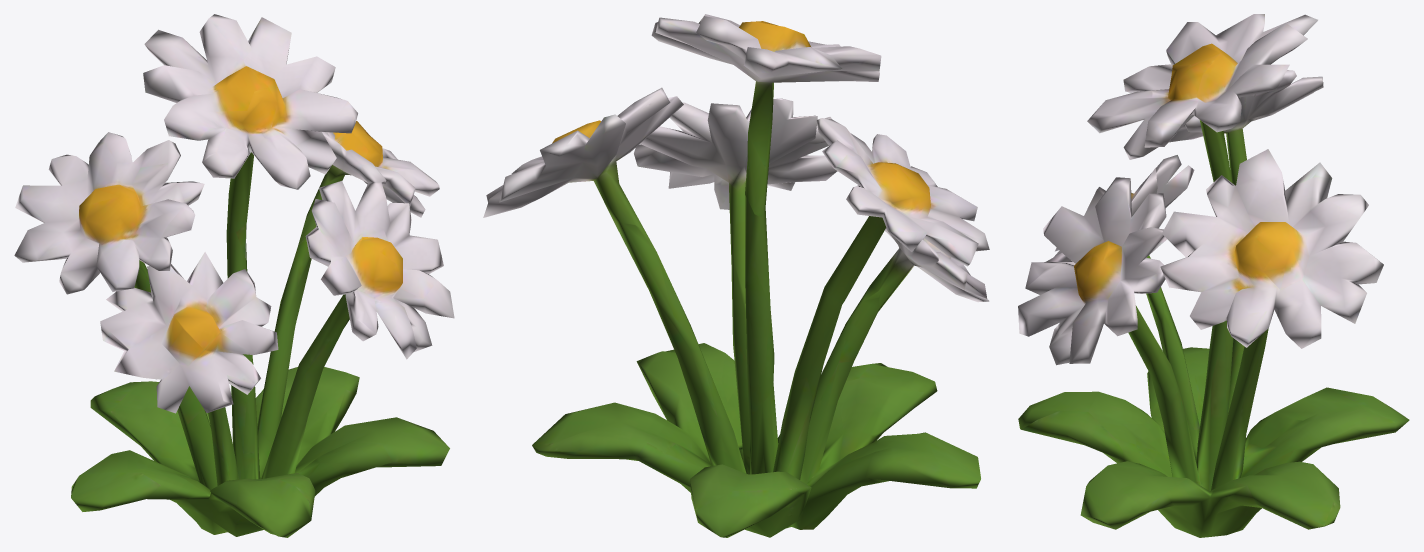
Rendered from 44a-margaridas.glb.
3 renders of one model, left to right at view 1: azimuth 30°, elevation 25°; view 2: azimuth 150°, elevation 25°; view 3: azimuth 270°, elevation 25°, orthographic. The views are drawn at different scales.
Parts seen in each view (by area): view 1: tripo_node_429b8727-a8b9-4d17-90be-d8a75046d84b; view 2: tripo_node_429b8727-a8b9-4d17-90be-d8a75046d84b; view 3: tripo_node_429b8727-a8b9-4d17-90be-d8a75046d84b.
Boxes of the visible parts, x1=… form: tripo_node_429b8727-a8b9-4d17-90be-d8a75046d84b: x1=14, y1=14, x2=454, y2=537; tripo_node_429b8727-a8b9-4d17-90be-d8a75046d84b: x1=483, y1=14, x2=989, y2=537; tripo_node_429b8727-a8b9-4d17-90be-d8a75046d84b: x1=1018, y1=14, x2=1409, y2=537.
Size of the model in its own units: 0.9199 by 1 by 0.7182.
1 material, 1 textured.
